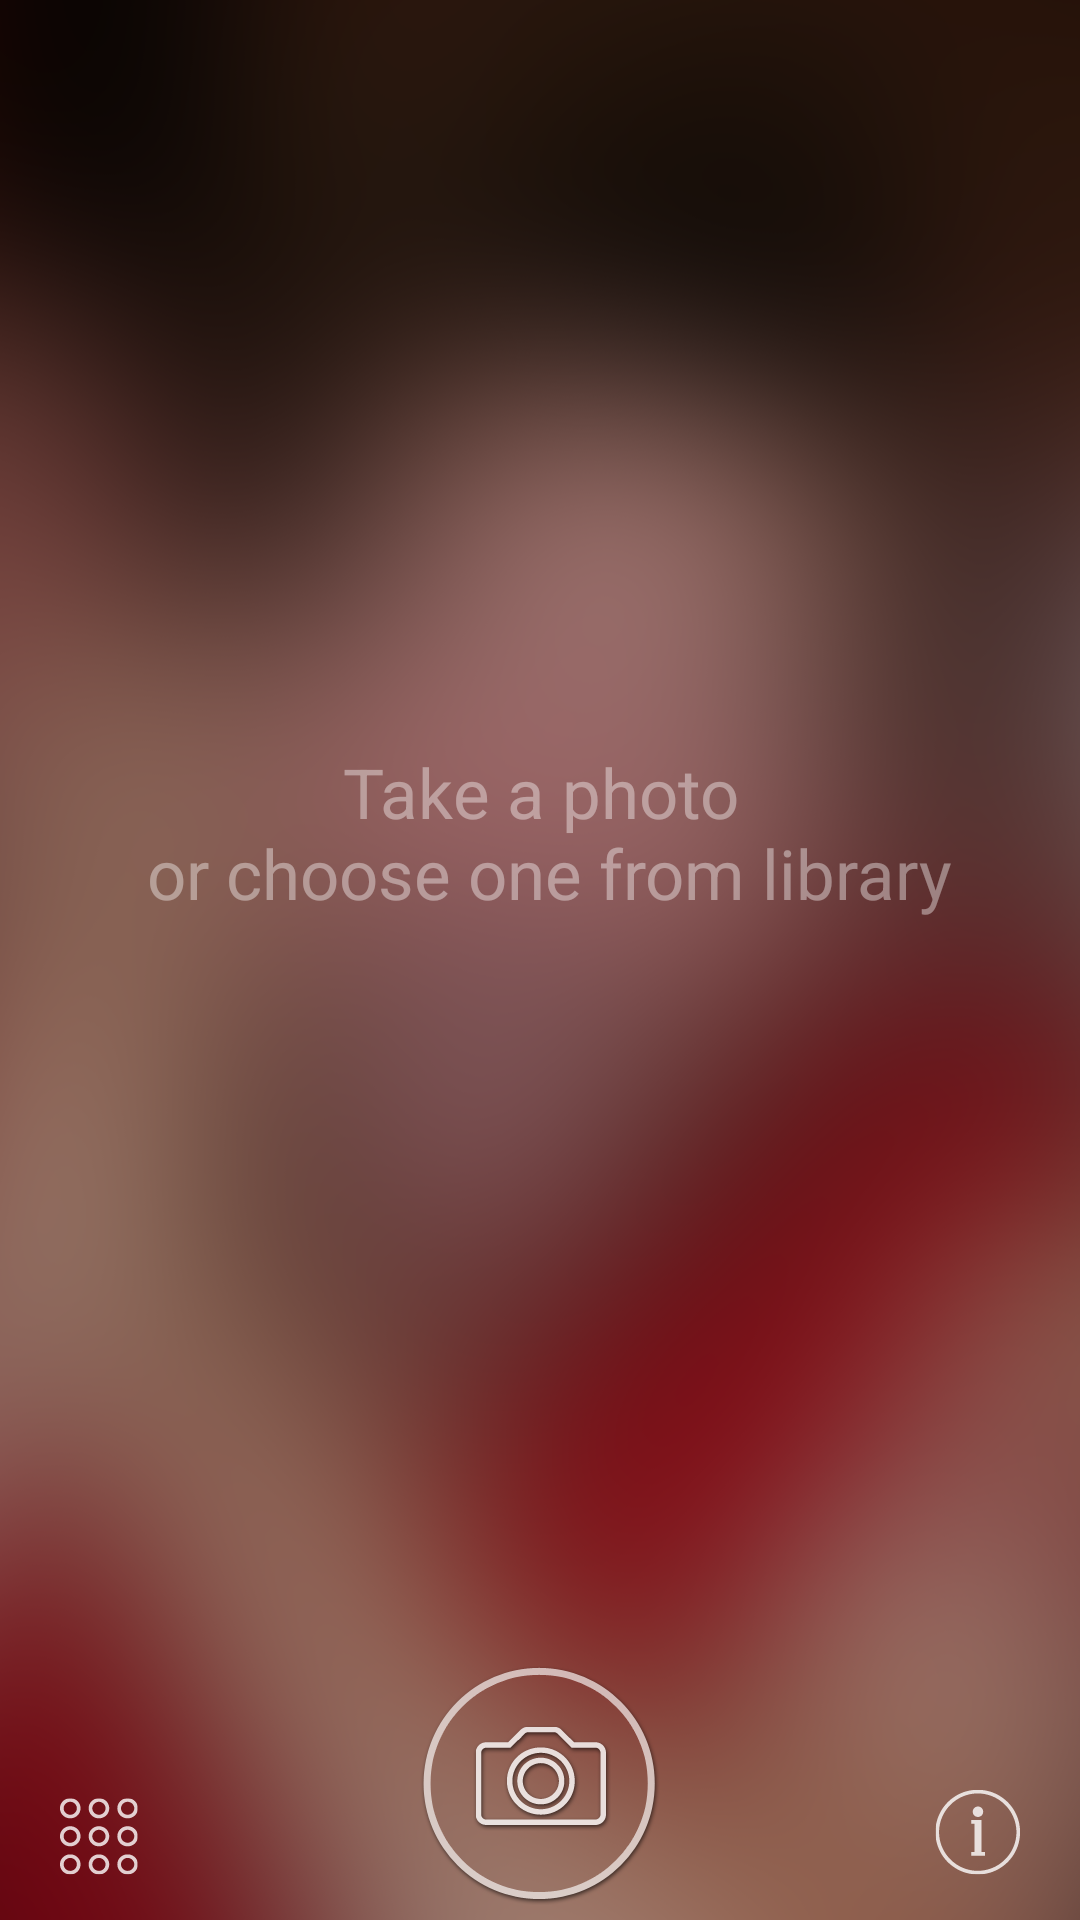

Icons on this 1080×1920 Android screen, each with the point to tap as point (x, y):
info: point (978, 1832)
